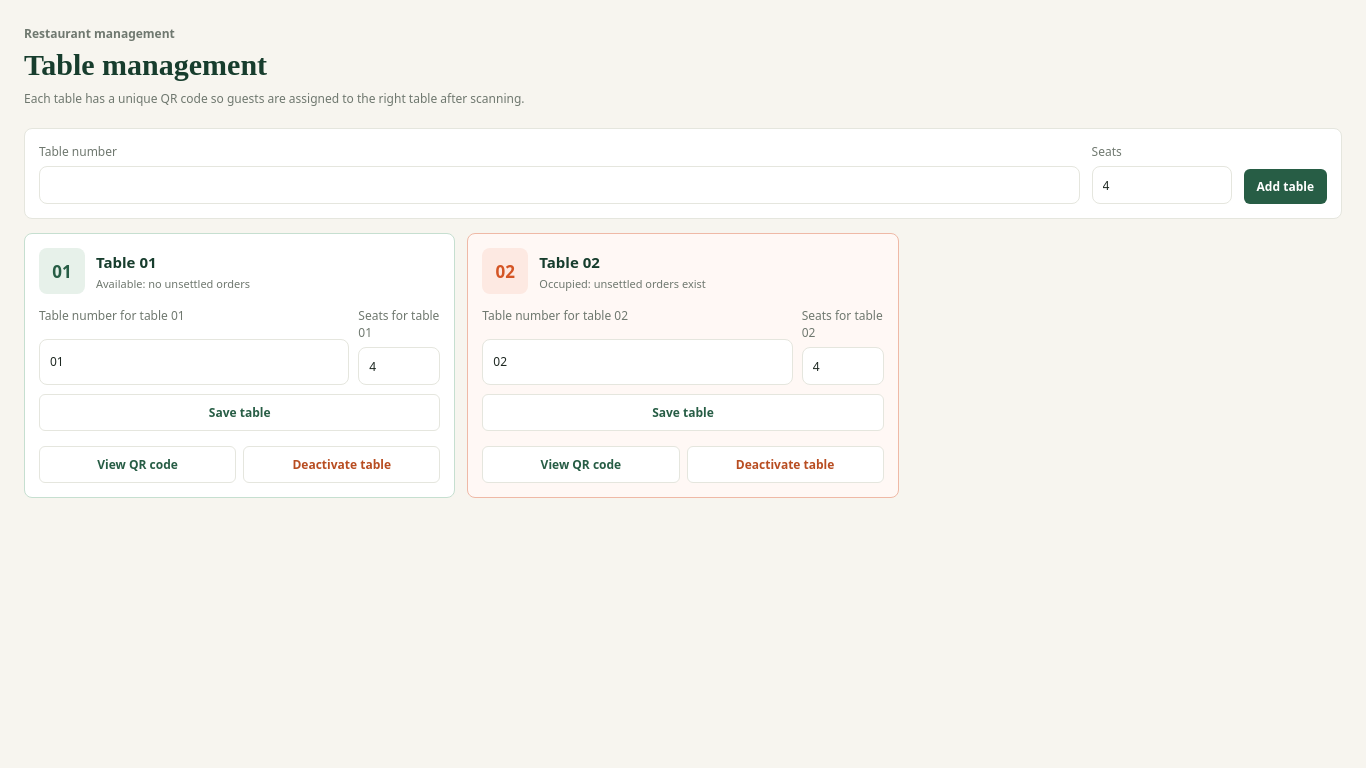
Test case: TableManagement › shows a save error when table updates fail
This screenshot has width=1366, height=768.
Type "13" into the field labelled "Table number" at (559, 185), box [39,166,1080,204]
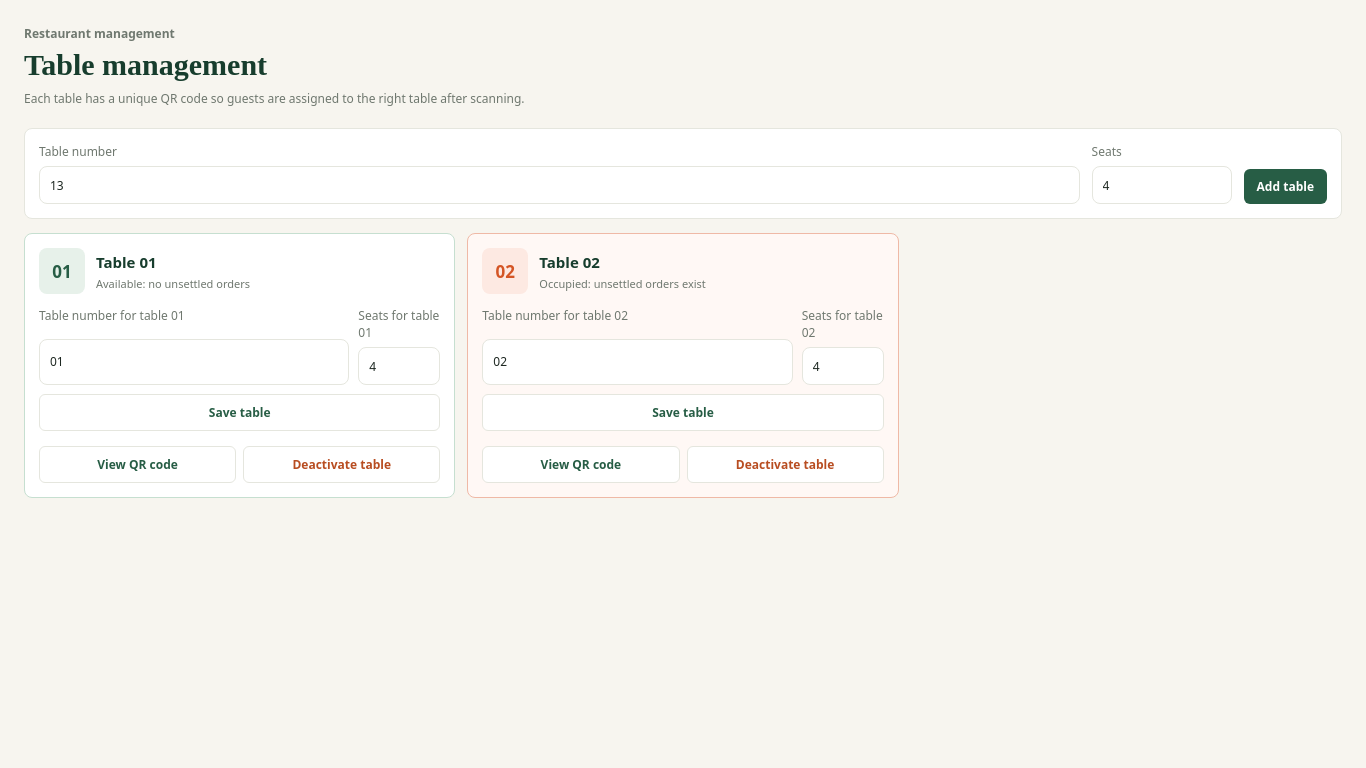
Click the button "Add table" at (1285, 187), box [1244,169,1327,204]
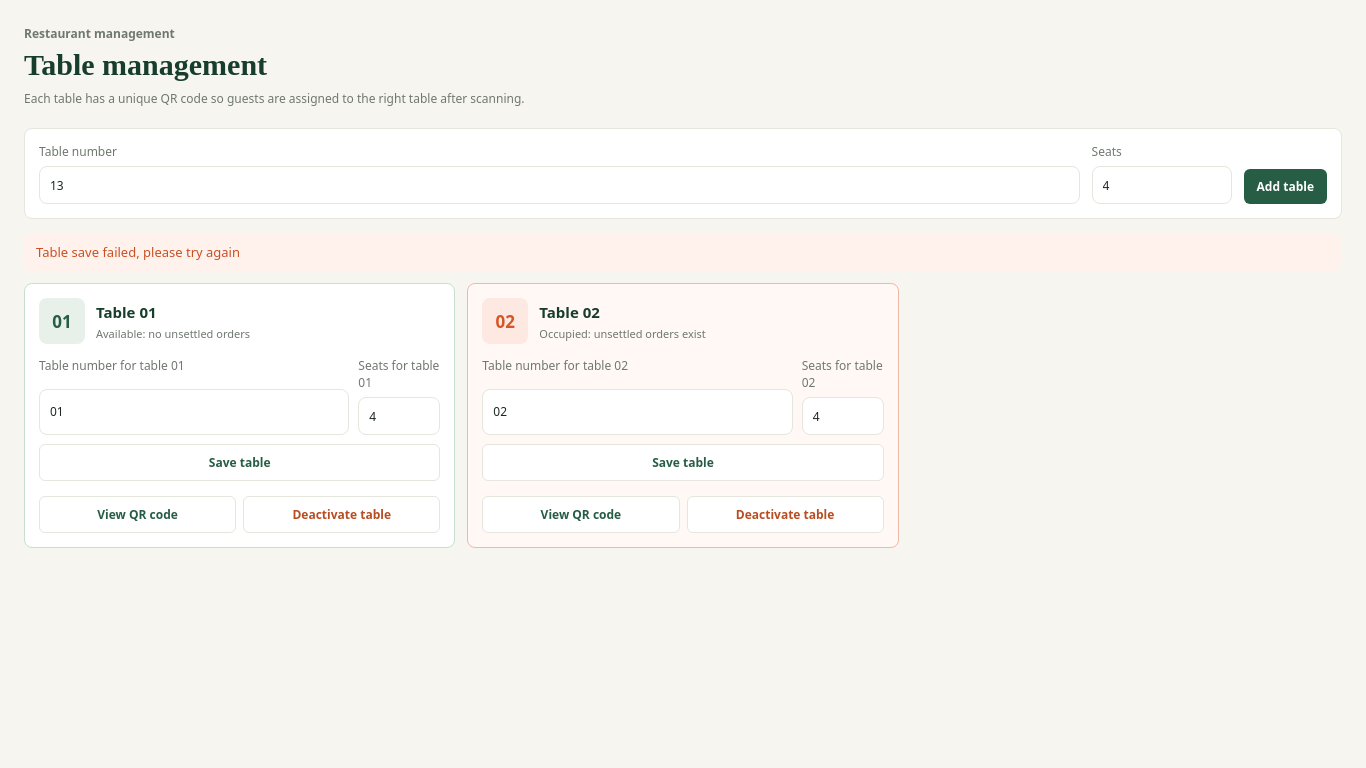
Check: the text "Table save failed, please try again" is shown, box [24,233,1342,271]
